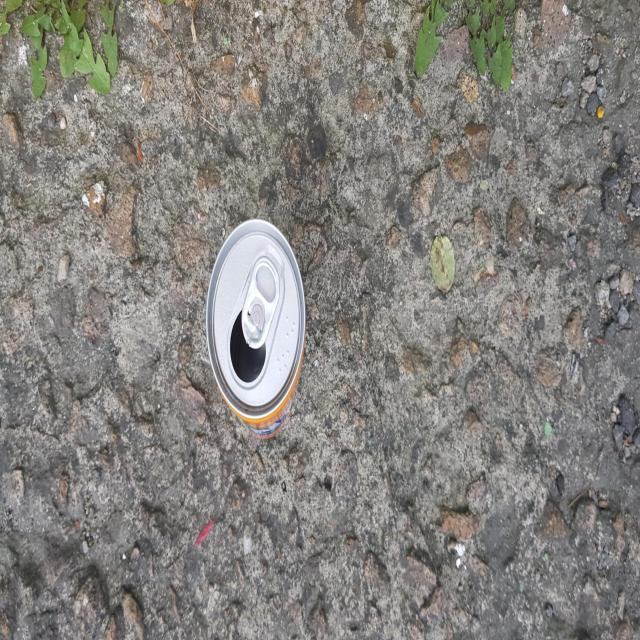can: (206, 219, 305, 437)
